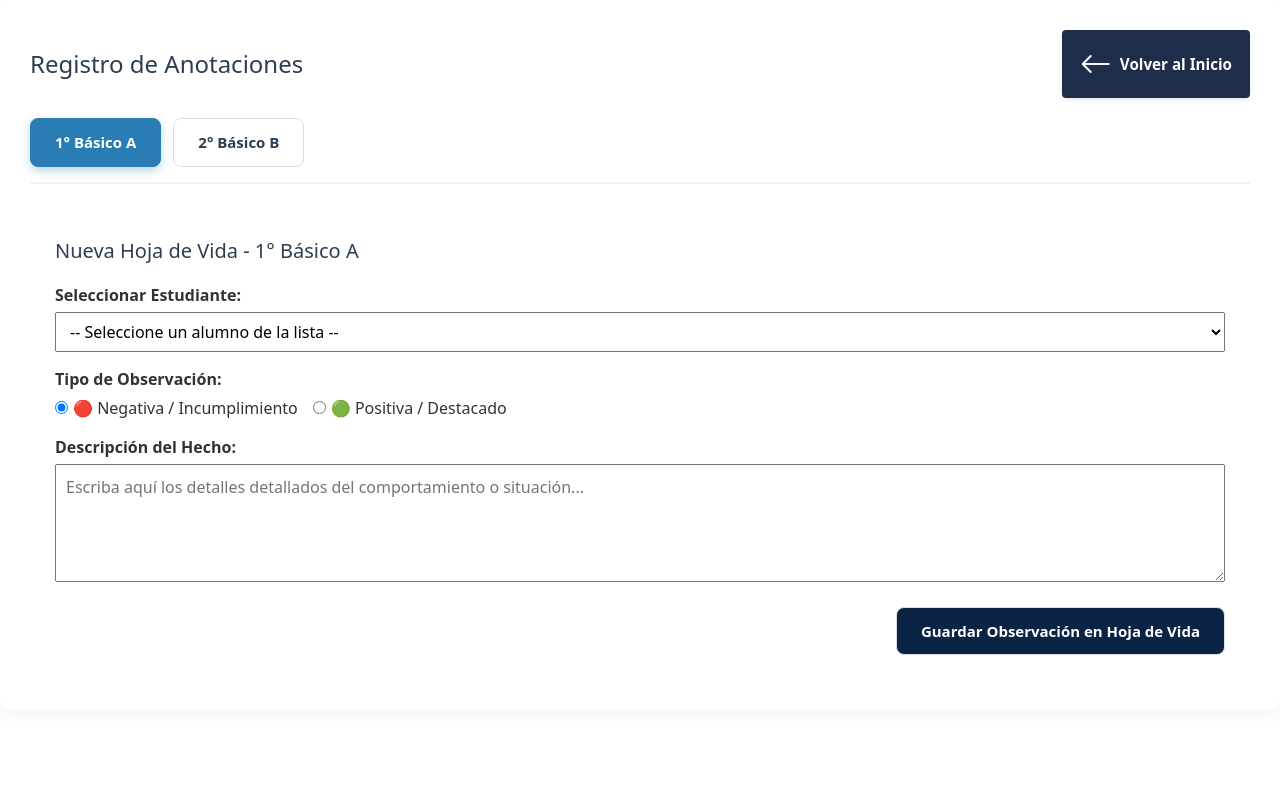
Anotaciones › Guardado exitoso › el botón cambia a 'Registrando...' mientras se guarda
Expected: the text "Seleccionar Estudiante:" is shown, [55,284,241,306]
Select "Soto, Ana (12345678-9)" in the dropdown: (640, 332) [55,312,1225,352]
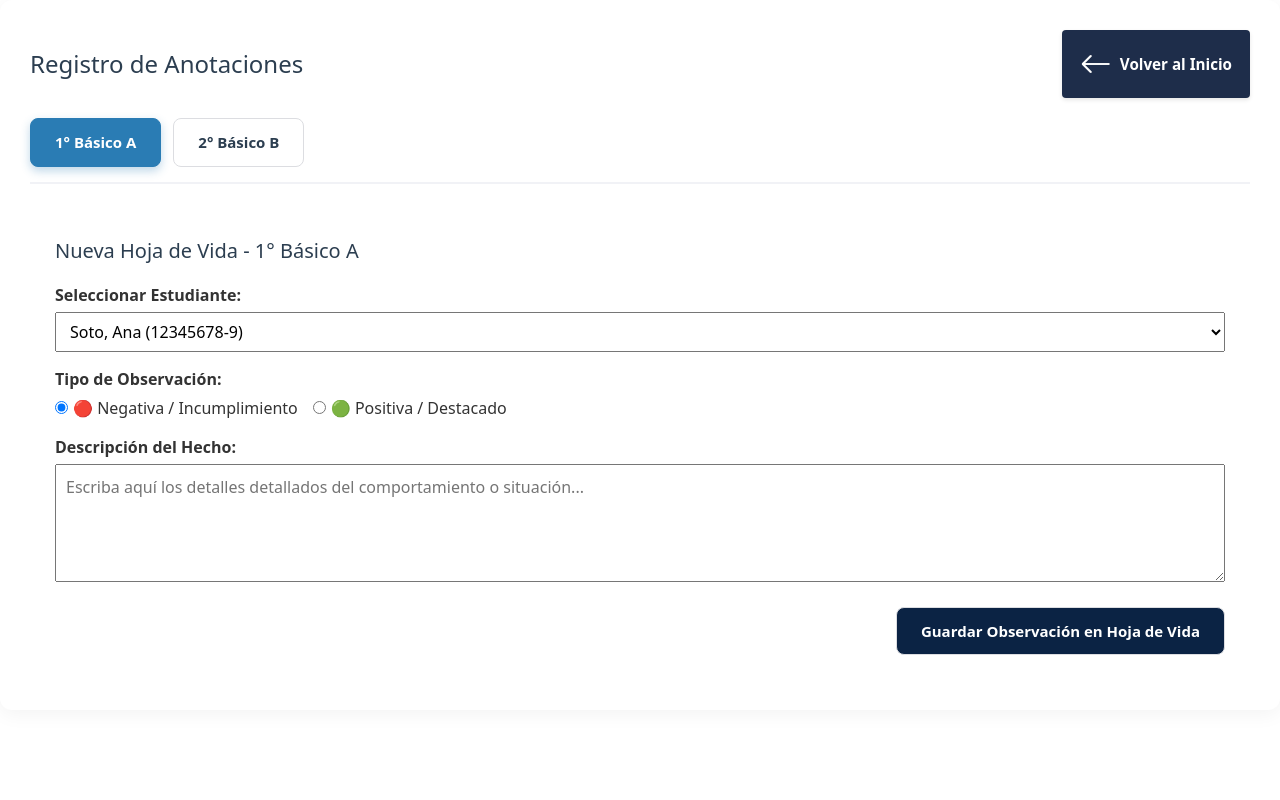
In the text box with placeholder "Escriba aquí": (640, 522) [55,464,1225,582], type "Detalle."
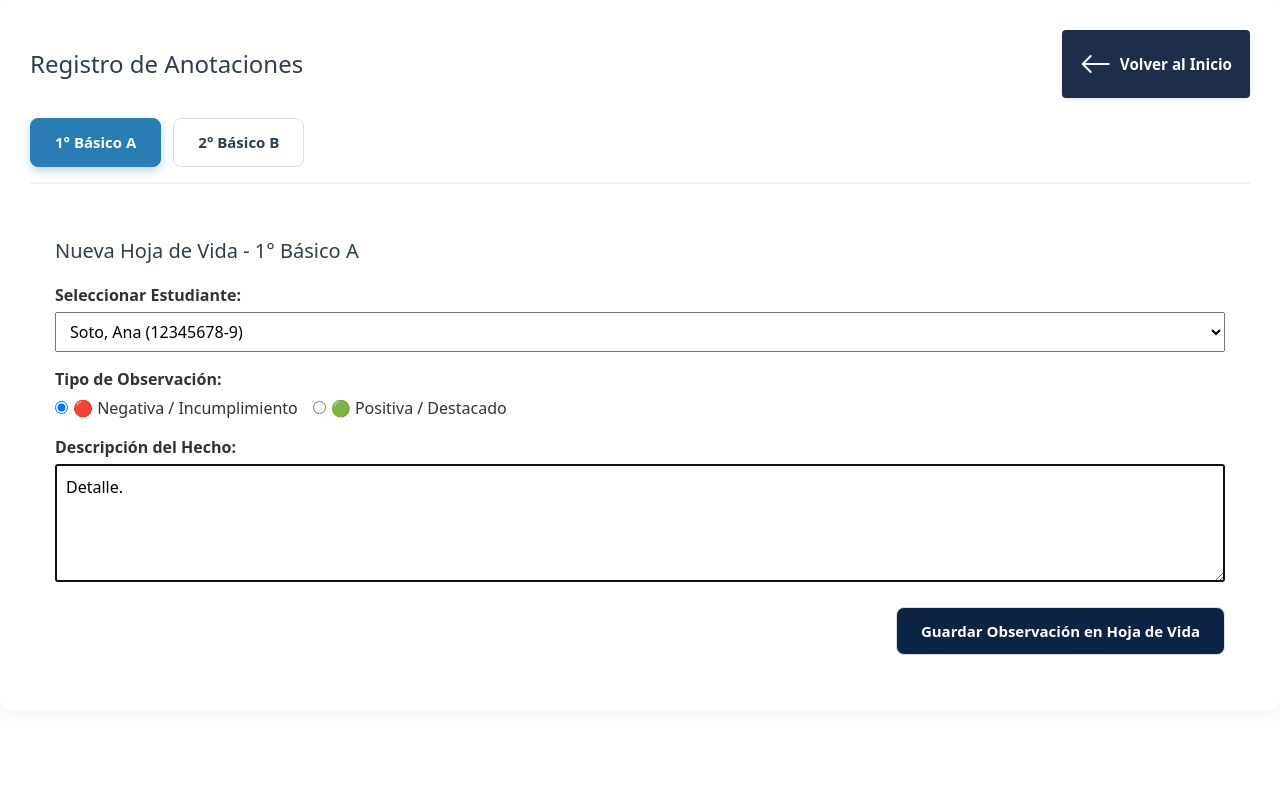
Submit the text "Guardar Observación", box [55,282,1225,655]
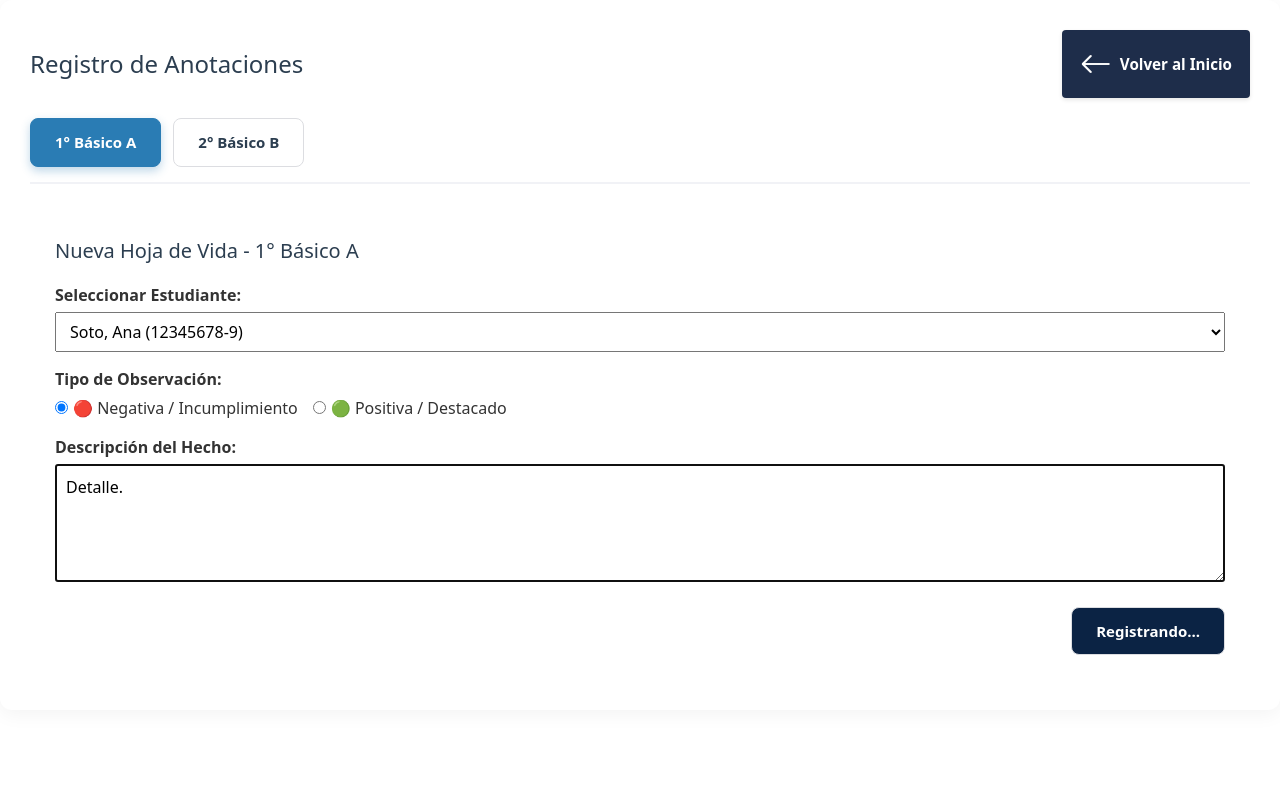
Result: the button "Registrando..." is disabled at [1071,606,1225,655]
